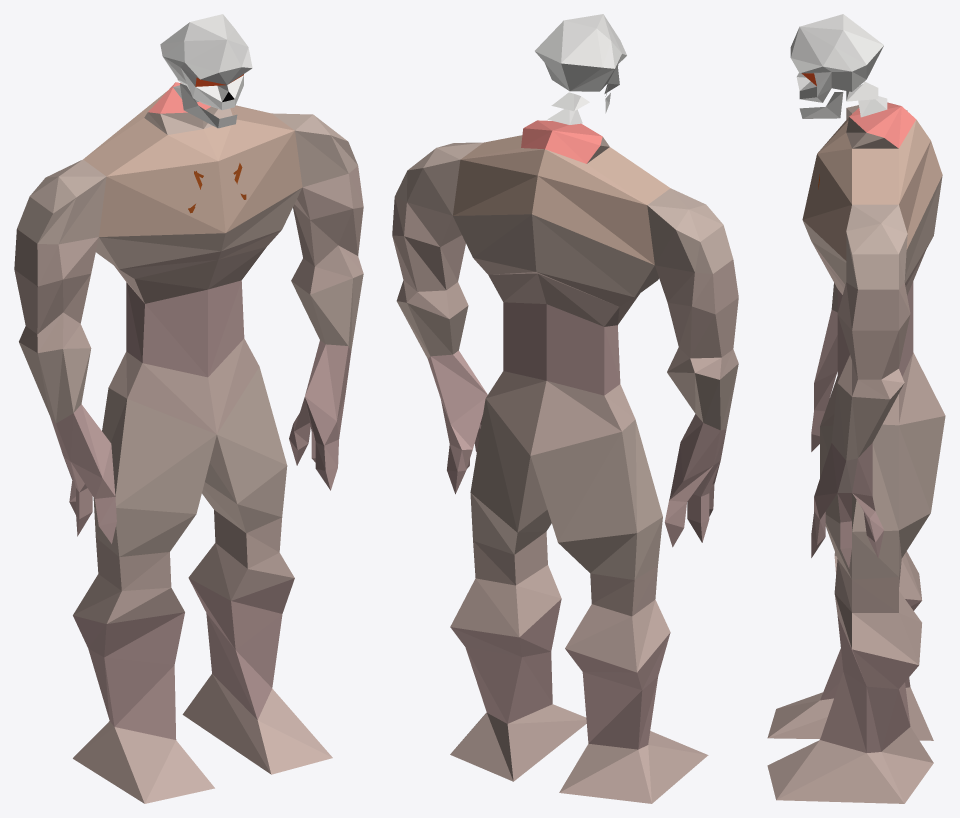
Rendered from nechryael.gltf.
The picture shows the model from 3 angles, left to right: view 1: azimuth 30°, elevation 25°; view 2: azimuth 150°, elevation 25°; view 3: azimuth 270°, elevation 25°; orthographic projection.
Bounding box in the file's own units: 128 × 277 × 61.
Materials: 1 (1 with a texture image).
